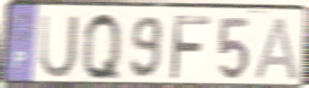5: (215, 16, 253, 82)
9: (127, 14, 165, 81)
A: (252, 15, 301, 82)
F: (168, 13, 213, 82)
Q: (81, 10, 123, 84)
U: (38, 12, 81, 80)
